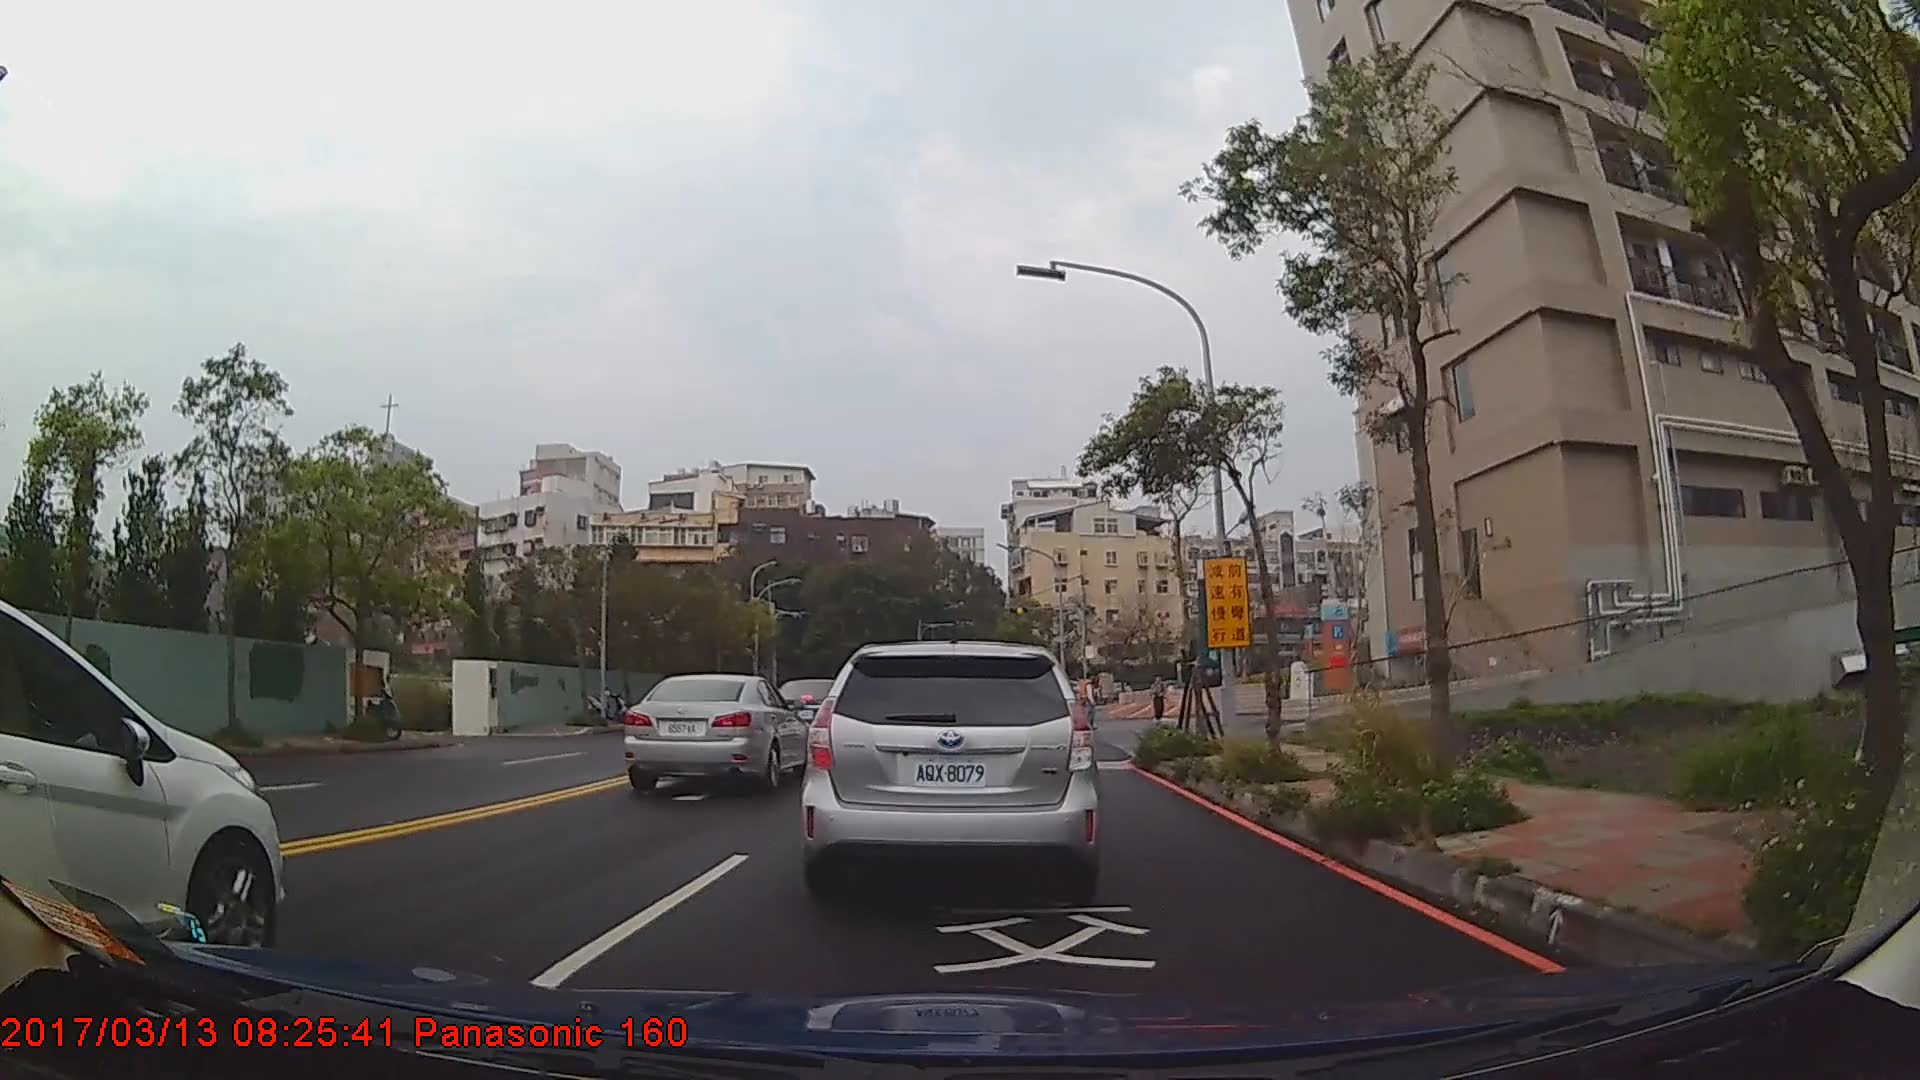pedestrian: (1081, 669, 1103, 734)
vehicle: (0, 598, 284, 964), (801, 635, 1106, 904), (622, 673, 811, 790)
